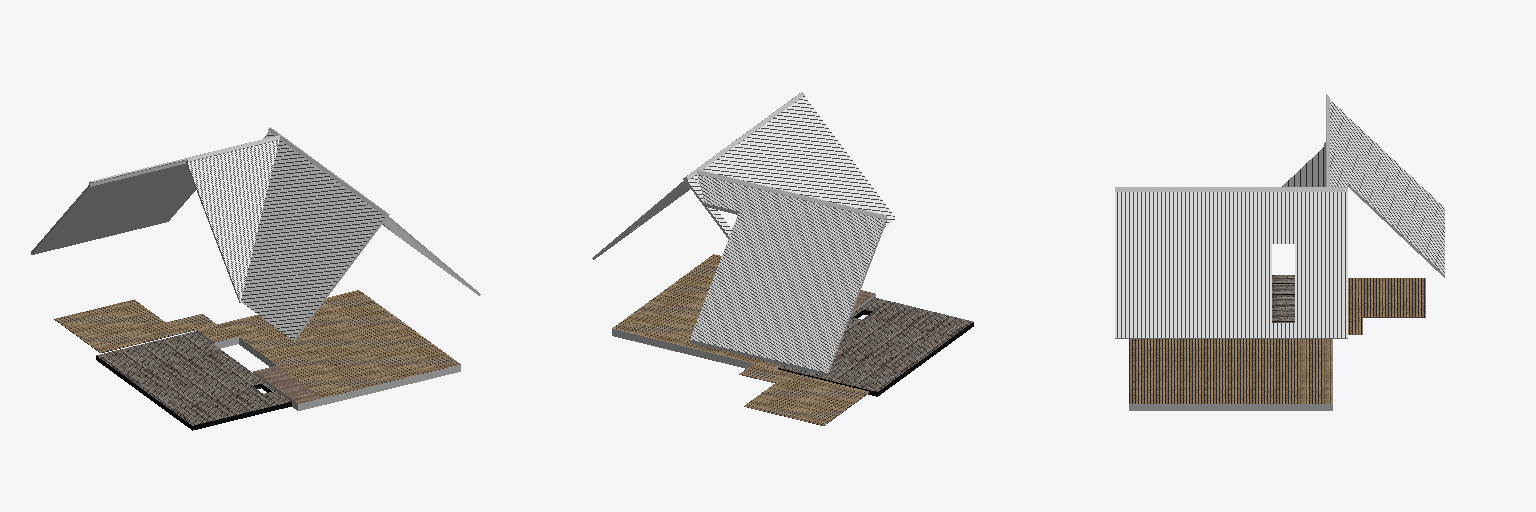
The picture shows the model from 3 angles: view 1: azimuth 30°, elevation 25°; view 2: azimuth 150°, elevation 25°; view 3: azimuth 270°, elevation 25°; orthographic projection.
Parts seen in each view (by area): view 1: UNITY_Taule_4"_90deg, UNITY_Plafond_Planche_Cedre, UNITY_Gris, UNITY_Plancher_Bois_Gris_90deg, UNITY_Crete, UNITY_Teak_Pale, UNITY_Aluminex_Frame; view 2: UNITY_Taule_4"_90deg, UNITY_Plafond_Planche_Cedre, UNITY_Plancher_Bois_Gris_90deg, UNITY_Gris, UNITY_Crete, UNITY_Aluminex_Frame; view 3: UNITY_Taule_4"_90deg, UNITY_Plafond_Planche_Cedre, UNITY_Gris, UNITY_Crete, UNITY_Plancher_Bois_Gris_90deg.
Part boxes in pixels (x1,y1,x2,y2): UNITY_Taule_4"_90deg: (187,132,384,339); UNITY_Plafond_Planche_Cedre: (54,290,460,397); UNITY_Gris: (31,160,480,410); UNITY_Plancher_Bois_Gris_90deg: (96,331,291,425); UNITY_Crete: (89,127,389,215); UNITY_Teak_Pale: (254,365,320,403); UNITY_Aluminex_Frame: (96,356,291,430); UNITY_Taule_4"_90deg: (688,96,895,372); UNITY_Plafond_Planche_Cedre: (612,254,869,425); UNITY_Plancher_Bois_Gris_90deg: (778,297,972,391); UNITY_Gris: (592,179,886,376); UNITY_Crete: (683,92,886,219); UNITY_Aluminex_Frame: (778,310,973,396); UNITY_Taule_4"_90deg: (1115,100,1444,337); UNITY_Plafond_Planche_Cedre: (1129,278,1425,403); UNITY_Gris: (1115,184,1444,410); UNITY_Crete: (1115,94,1347,191); UNITY_Plancher_Bois_Gris_90deg: (1272,275,1294,322).
Bounding box in the file's own units: 41.1 × 25.43 × 41.37.
Materials: 8 (4 with a texture image).